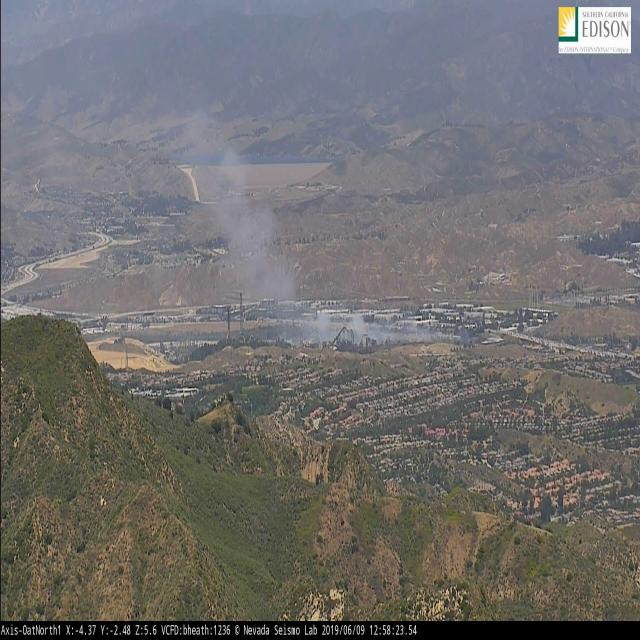smoke: (157, 92, 467, 344)
